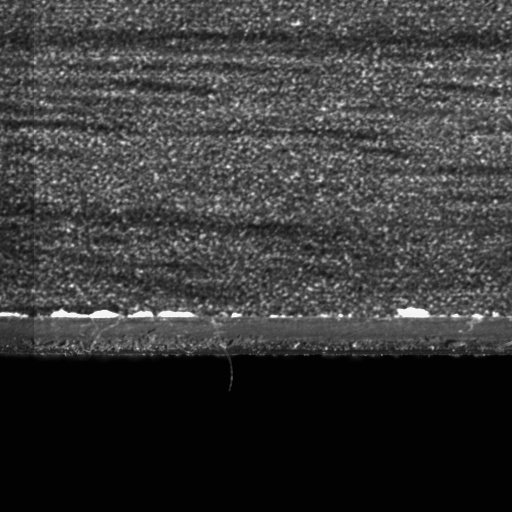huashang: (51, 308, 118, 319), (127, 309, 195, 319), (395, 307, 431, 320)
